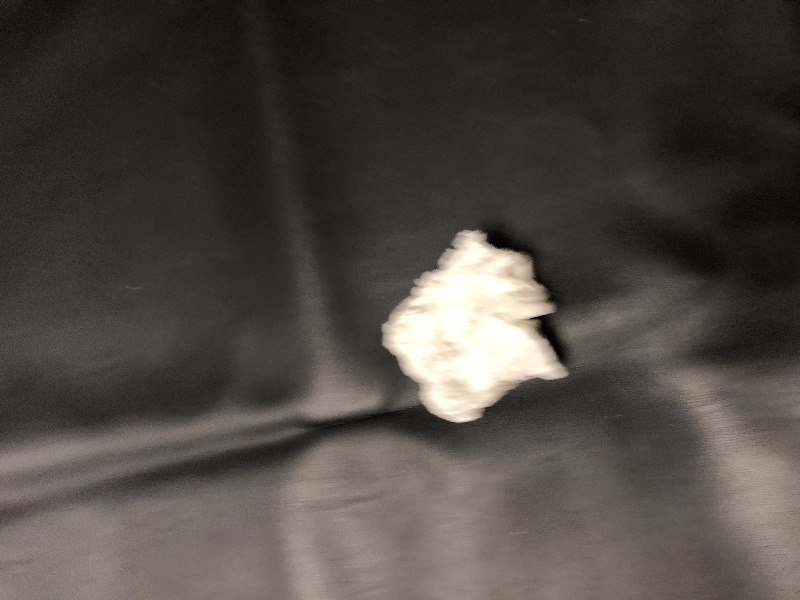paper: (359, 223, 581, 433)
